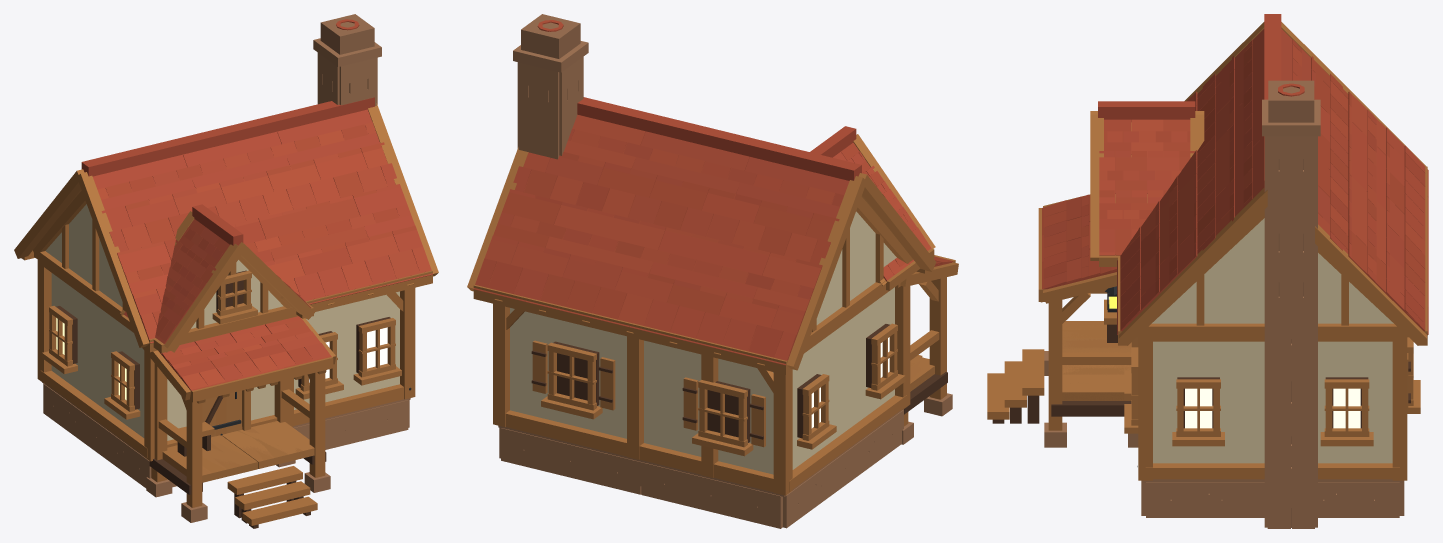
The model's file is house_farmhouse_a.glb.
The picture shows the model from 3 angles, left to right: view 1: azimuth 30°, elevation 25°; view 2: azimuth 150°, elevation 25°; view 3: azimuth 270°, elevation 25°; orthographic projection. The views are drawn at different scales.
Parts seen in each view (by area): view 1: house_farmhouse_a_LOD2_house, house_farmhouse_a_LOD0_house, house_farmhouse_a_LOD1_house; view 2: house_farmhouse_a_LOD0_house, house_farmhouse_a_LOD1_house, house_farmhouse_a_LOD2_house; view 3: house_farmhouse_a_LOD0_house, house_farmhouse_a_LOD1_house, house_farmhouse_a_LOD2_house.
Part boxes in pixels (x1,y1,x2,y2): house_farmhouse_a_LOD2_house: (15, 14, 438, 528); house_farmhouse_a_LOD0_house: (14, 15, 437, 525); house_farmhouse_a_LOD1_house: (14, 14, 432, 528); house_farmhouse_a_LOD0_house: (468, 15, 957, 528); house_farmhouse_a_LOD1_house: (467, 14, 958, 528); house_farmhouse_a_LOD2_house: (473, 14, 957, 528); house_farmhouse_a_LOD0_house: (987, 14, 1427, 528); house_farmhouse_a_LOD1_house: (987, 14, 1427, 528); house_farmhouse_a_LOD2_house: (987, 14, 1428, 528).
Size of the model in its own units: 7.76 by 8.93 by 8.33.
